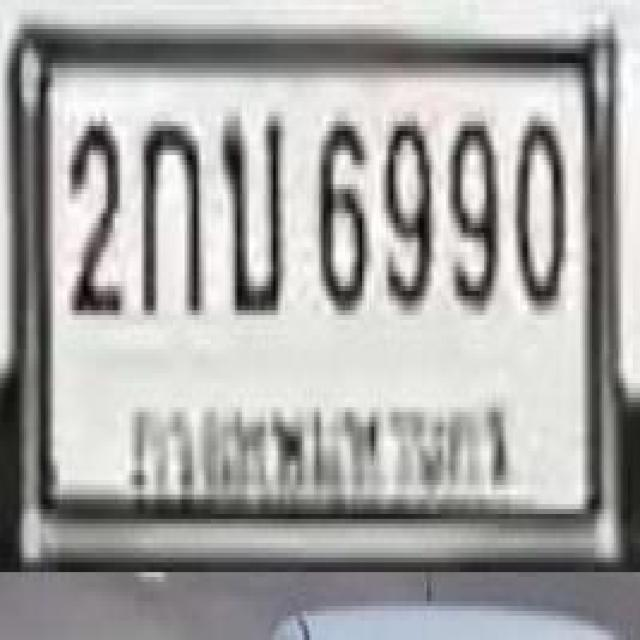license_plate: (11, 22, 625, 570)
